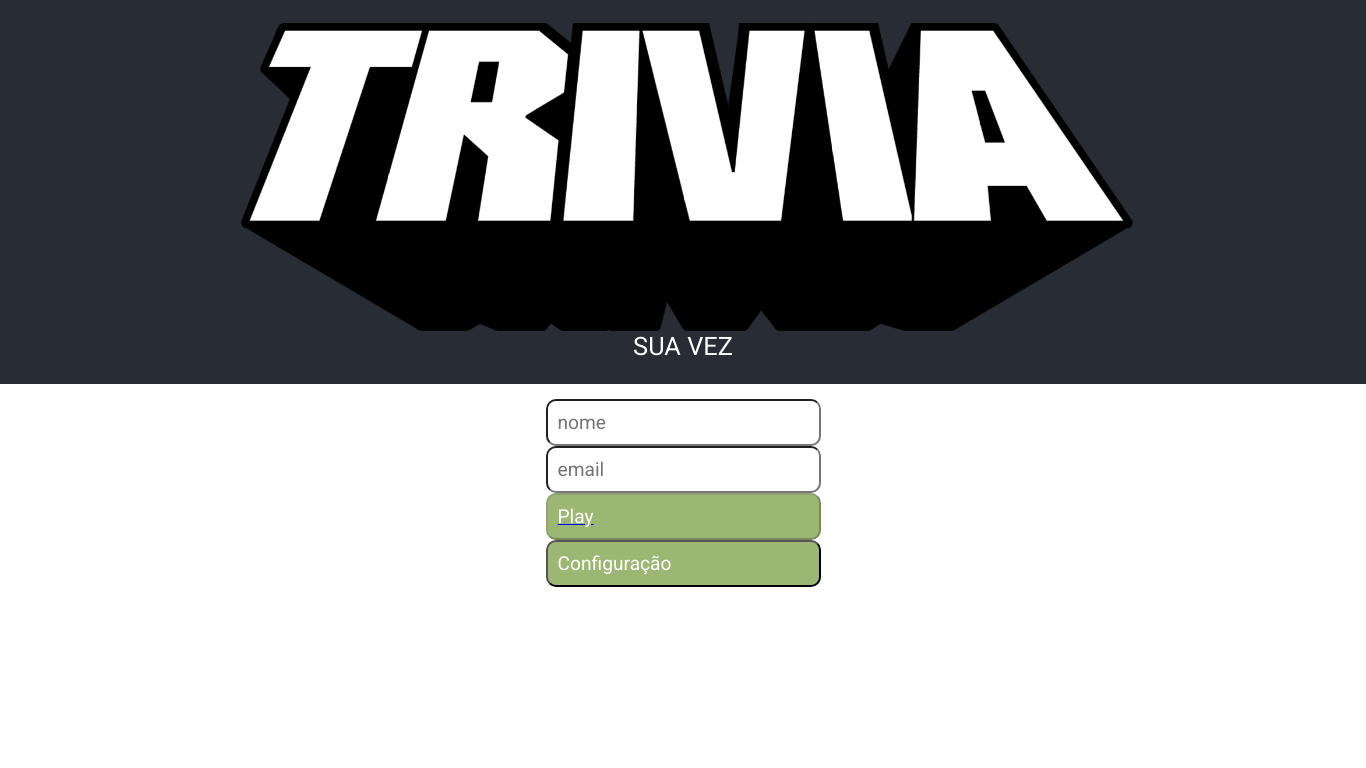
it: 3 - [TELA DE LOGIN] Crie um botão na tela inicial que leve para a tela de configurações › Será validado se a tela de configurações possui um título
Click the button with test id "btn-settings": (615, 564) x1=546 y1=540 x2=821 y2=587
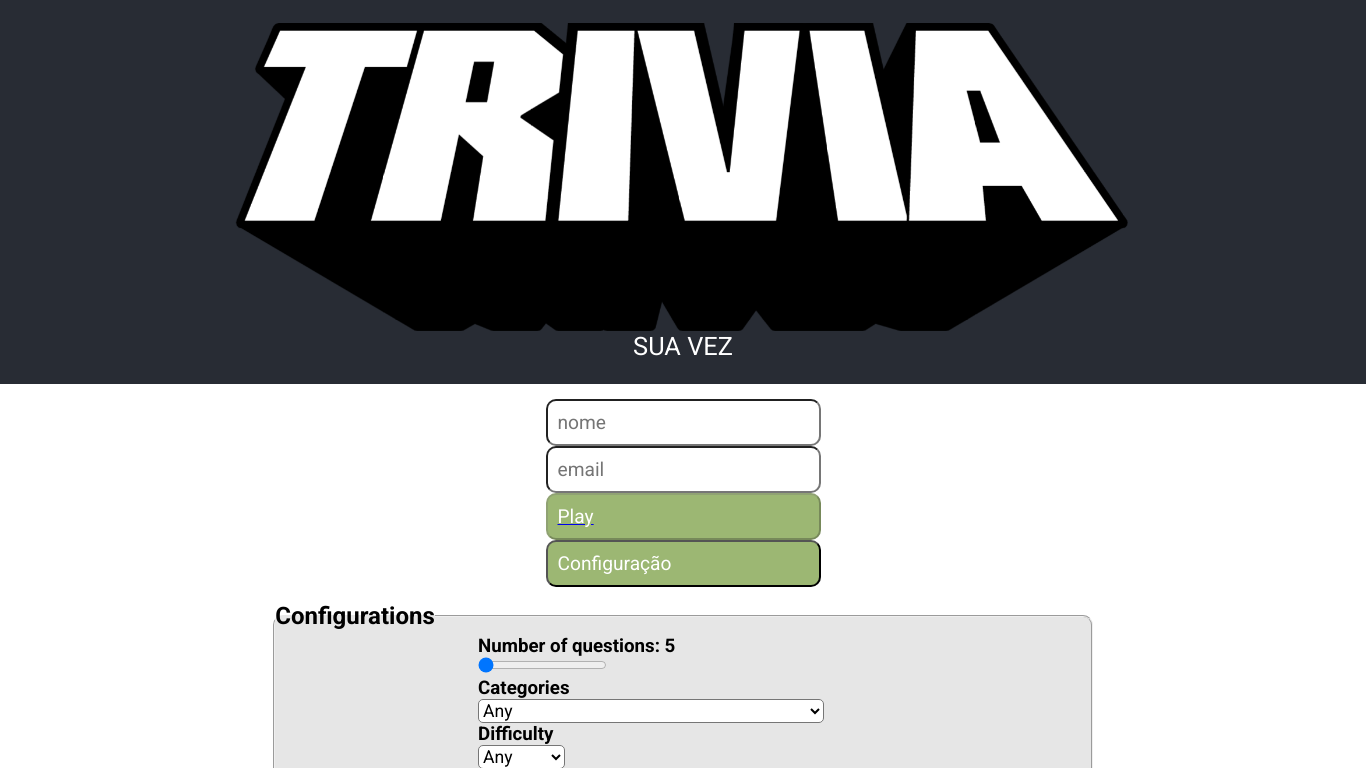
Expected: the element with test id "settings-title" is shown, x1=275 y1=602 x2=435 y2=630
